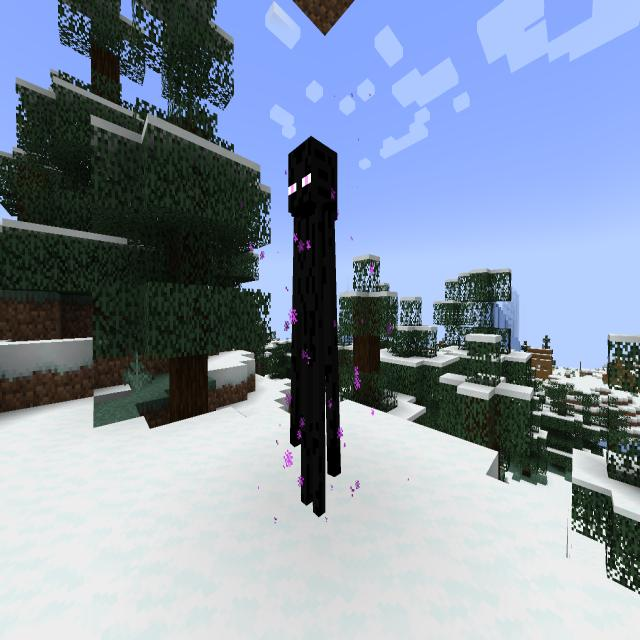Enderman: (276, 131, 352, 520)
